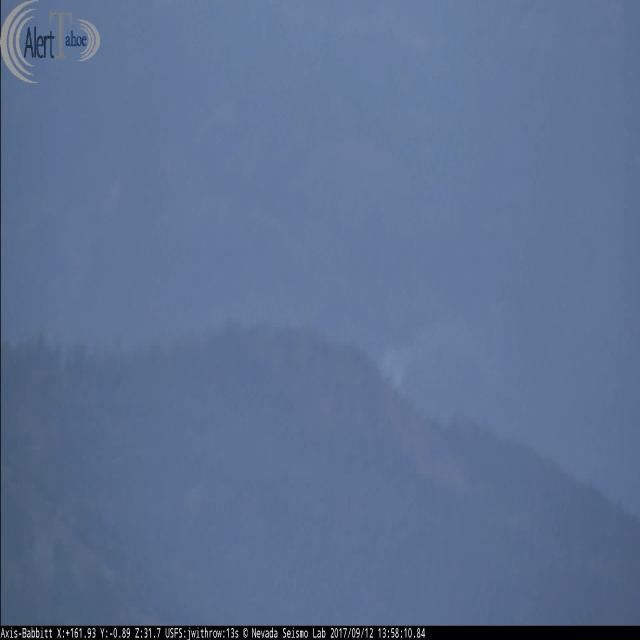smoke: (378, 301, 507, 439)
